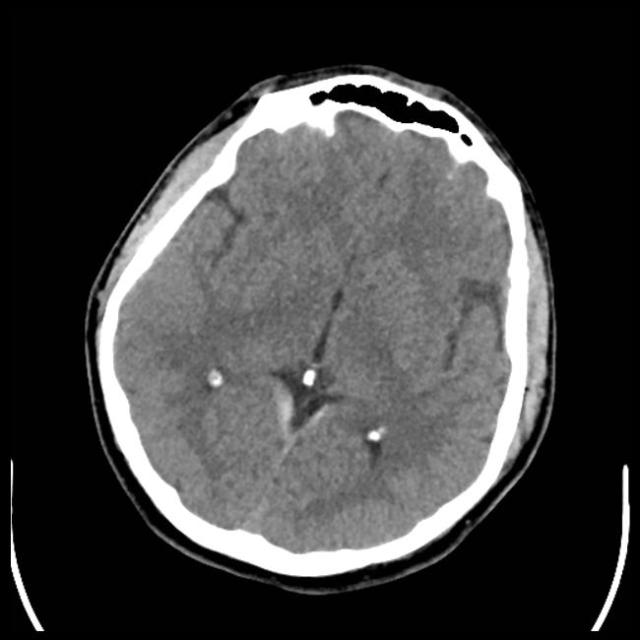lesion: (88, 69, 550, 579)
